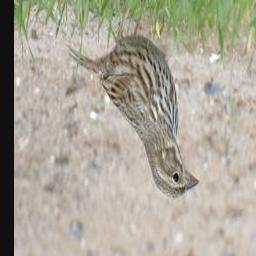Sparrow: (67, 0, 201, 206)
